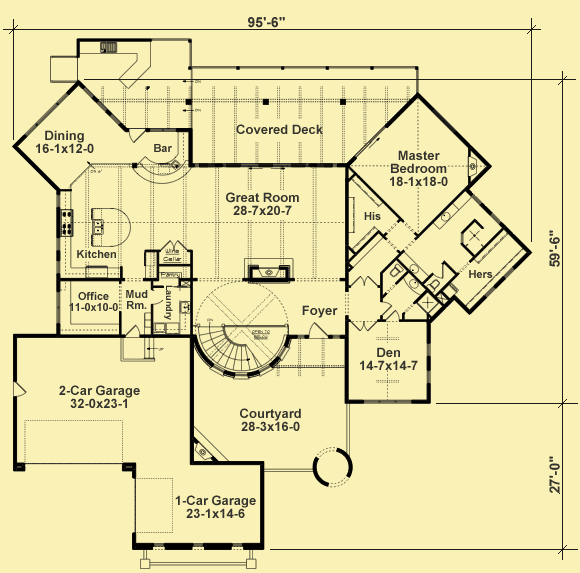door: (349, 272, 382, 290), (347, 318, 380, 335), (306, 318, 329, 339), (9, 376, 30, 398), (125, 322, 143, 340)
kitchen_bar: (87, 204, 131, 249)
large_sink: (387, 263, 408, 277), (425, 277, 442, 294)
stairs: (192, 321, 264, 375)
